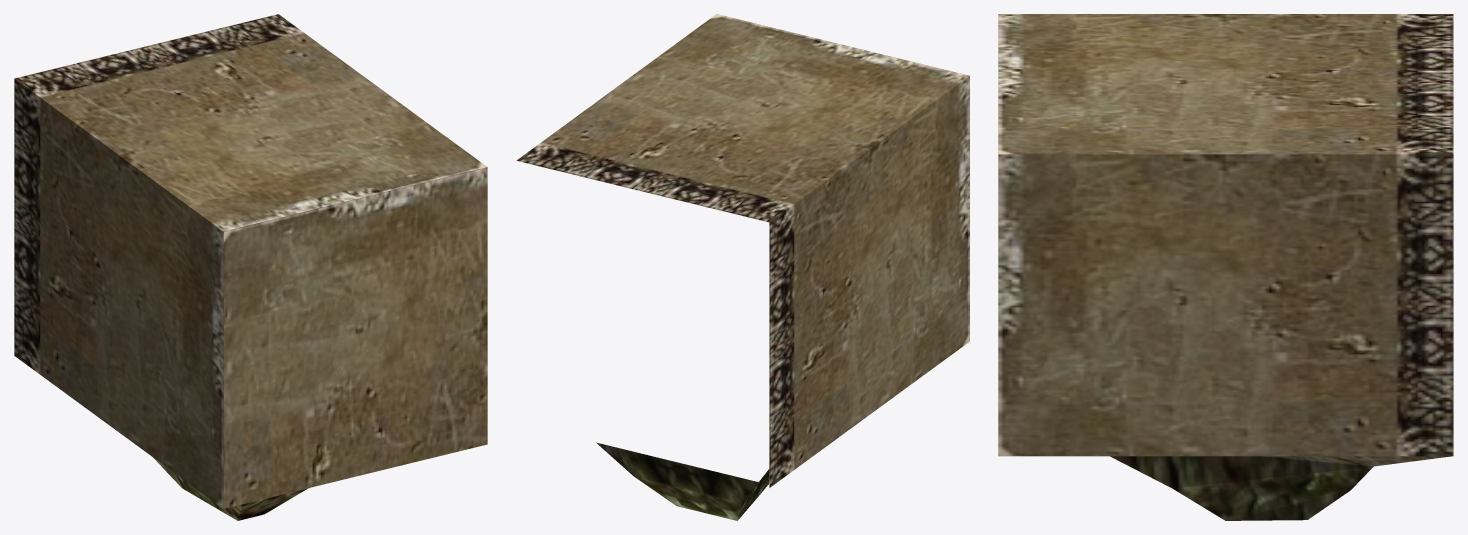
Rendered from HouseEtc01.glb.
3 views of the same model, side by side, from view 1: azimuth 30°, elevation 25°; view 2: azimuth 150°, elevation 25°; view 3: azimuth 270°, elevation 25° (orthographic). The views are drawn at different scales.
Visible parts, largest first — view 1: model_HouseEtc01; view 2: model_HouseEtc01; view 3: model_HouseEtc01.
Part boxes in pixels (x1,y1,x2,y2): model_HouseEtc01: [14, 14, 487, 520]; model_HouseEtc01: [516, 14, 969, 520]; model_HouseEtc01: [998, 14, 1453, 520].
Bounding box in the file's own units: 0.9988 × 1.43 × 1.37.
Materials: 2 (2 with a texture image).
